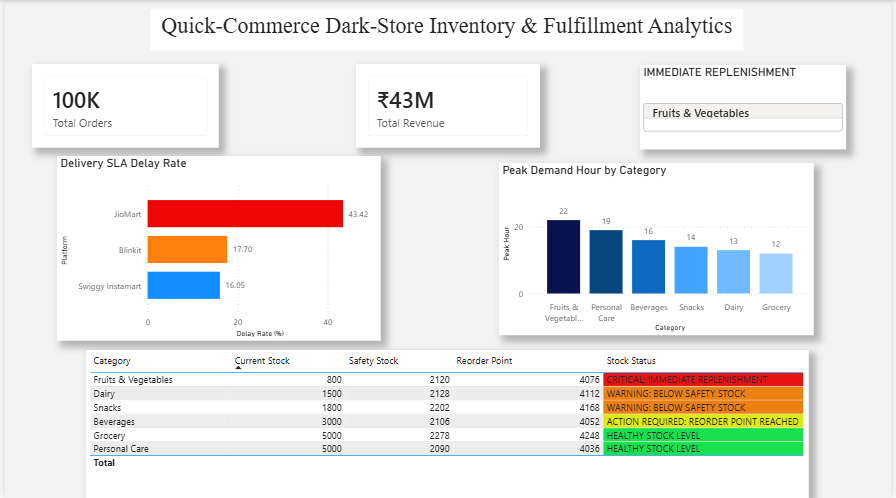

This screenshot's page, from the dashboard's own definition file:
{"tool":"powerbi","page":{"name":"Page 1","canvas":[1280,720],"ordinal":0},"visuals":[{"type":"textbox","box":[210,13.4,858.4,60.5],"z":0},{"type":"cardVisual","fields":{"Data":["Sum(platform_performance.total_orders)"]},"box":[39,92.5,270.4,121.4],"z":1000},{"type":"cardVisual","fields":{"Data":["Sum(platform_performance.total_revenue_inr)"]},"box":[507.5,92.5,266,121.4],"z":2000},{"type":"clusteredBarChart","title":"Delivery SLA Delay Rate","fields":{"Category":["platform_performance.platform_name"],"Y":["Sum(platform_performance.delayed_order_pct)"]},"box":[75.2,225.5,468.4,267.5],"z":3000},{"type":"clusteredColumnChart","title":"Peak Demand Hour by Category","fields":{"Category":["category_peak_demand.product_category_name"],"Y":["Sum(category_peak_demand.peak_hour_24hr)"]},"box":[714.2,235.7,455.4,248.7],"z":4000},{"type":"tableEx","fields":{"Values":["inventory_stockout_alerts.category_name","inventory_stockout_alerts.current_stock_on_hand","inventory_stockout_alerts.calculated_safety_stock","inventory_stockout_alerts.reorder_point","inventory_stockout_alerts.stock_status"]},"box":[117.6,505.6,1044.8,215],"z":5000},{"type":"cardVisual","title":"IMMEDIATE REPLENISHMENT","fields":{"Rows":["inventory_stockout_alerts.category_name"]},"box":[918.3,93.3,298.3,121.7],"z":6000}]}

Visuals, with their boxes in screenshot pixels (x1, y1, x2, y2), scaled from the page's 1280x720 canvas onto the 896x498 screenshot:
textbox: select_region(147, 9, 748, 51)
cardVisual - Sum(platform_performance.total_orders): select_region(27, 64, 217, 148)
cardVisual - Sum(platform_performance.total_revenue_inr): select_region(355, 64, 541, 148)
"Delivery SLA Delay Rate" clusteredBarChart: select_region(53, 156, 381, 341)
"Peak Demand Hour by Category" clusteredColumnChart: select_region(500, 163, 819, 335)
tableEx - inventory_stockout_alerts.category_name x inventory_stockout_alerts.current_stock_on_hand: select_region(82, 350, 814, 497)
"IMMEDIATE REPLENISHMENT" cardVisual: select_region(643, 65, 852, 149)
